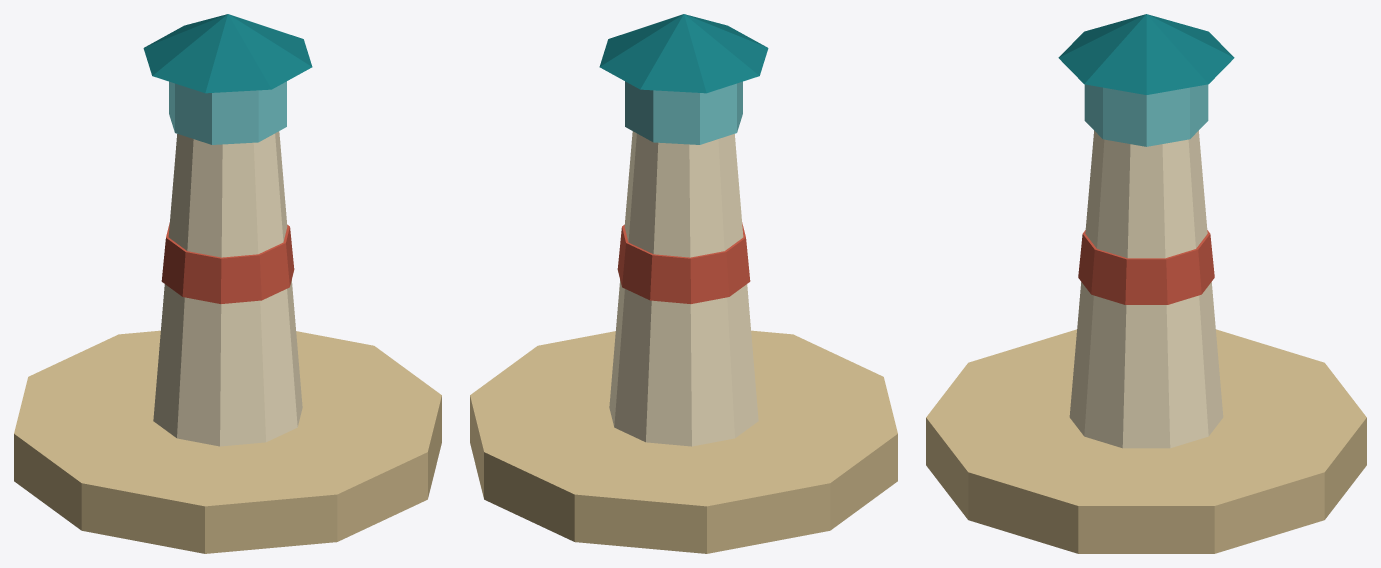
Rendered from Map_BeaconBay.fbx.
3 views of the same model, side by side, from view 1: azimuth 30°, elevation 25°; view 2: azimuth 150°, elevation 25°; view 3: azimuth 270°, elevation 25° (orthographic).
Parts seen in each view (by area): view 1: Map_BeaconBay_Static; view 2: Map_BeaconBay_Static; view 3: Map_BeaconBay_Static.
Boxes of the visible parts, <box> form: Map_BeaconBay_Static: <box>14,14,441,553</box>; Map_BeaconBay_Static: <box>470,14,897,553</box>; Map_BeaconBay_Static: <box>926,14,1366,553</box>.
Size of the model in its own units: 1.9 by 2.26 by 2.
Materials: 1 (1 with a texture image).
